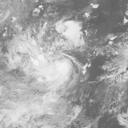cyclone: (41, 54, 77, 91)
